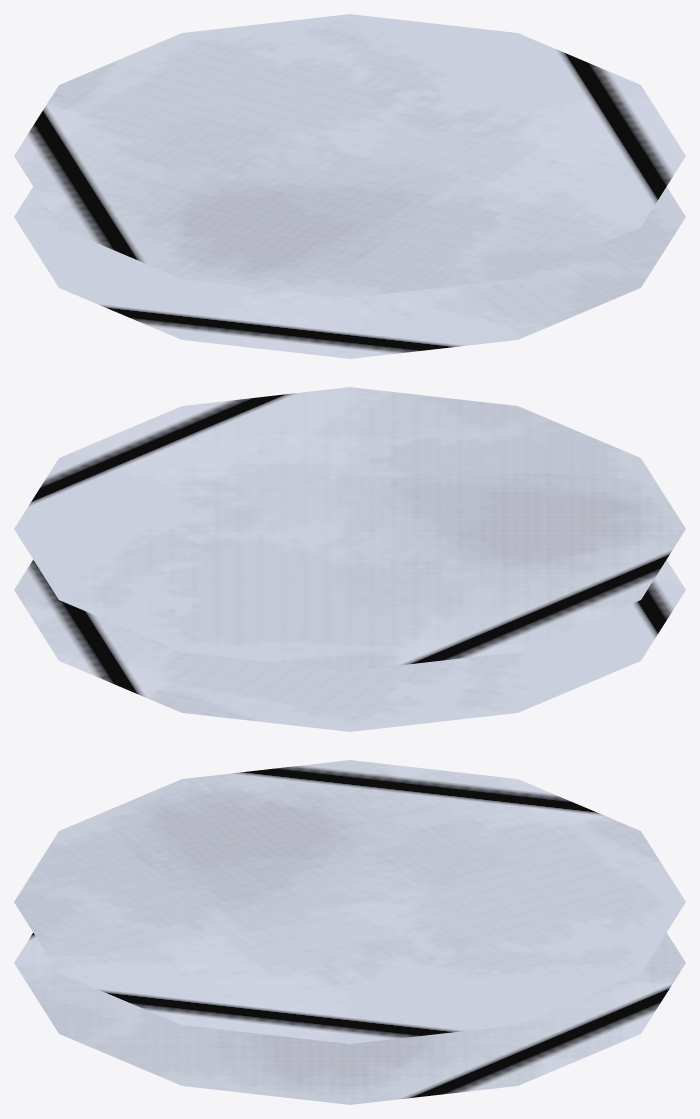
File: SM_Coin_bronze 1.fbx
The picture shows the model from 3 angles, top to bottom: view 1: azimuth 30°, elevation 25°; view 2: azimuth 150°, elevation 25°; view 3: azimuth 270°, elevation 25°; orthographic projection.
Parts seen in each view (by area): view 1: SM_coin_bronze; view 2: SM_coin_bronze; view 3: SM_coin_bronze.
Part boxes in pixels (x1,y1,x2,y2): SM_coin_bronze: (14, 14, 685, 358); SM_coin_bronze: (14, 387, 685, 731); SM_coin_bronze: (14, 760, 685, 1104).
Bounding box in the file's own units: 20 × 2 × 20.
